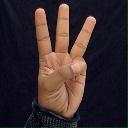hand: (34, 3, 96, 119)
